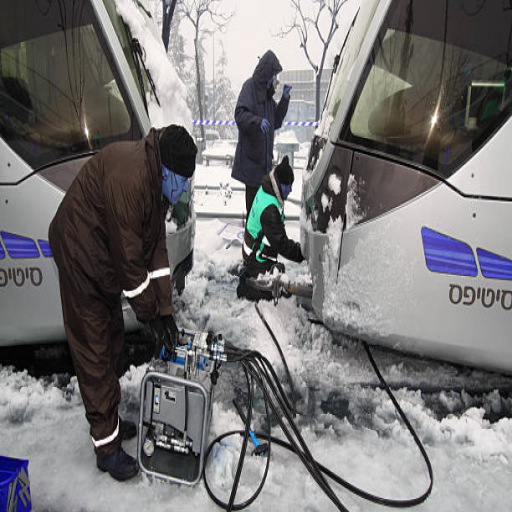portable_generator: (138, 325, 221, 486)
